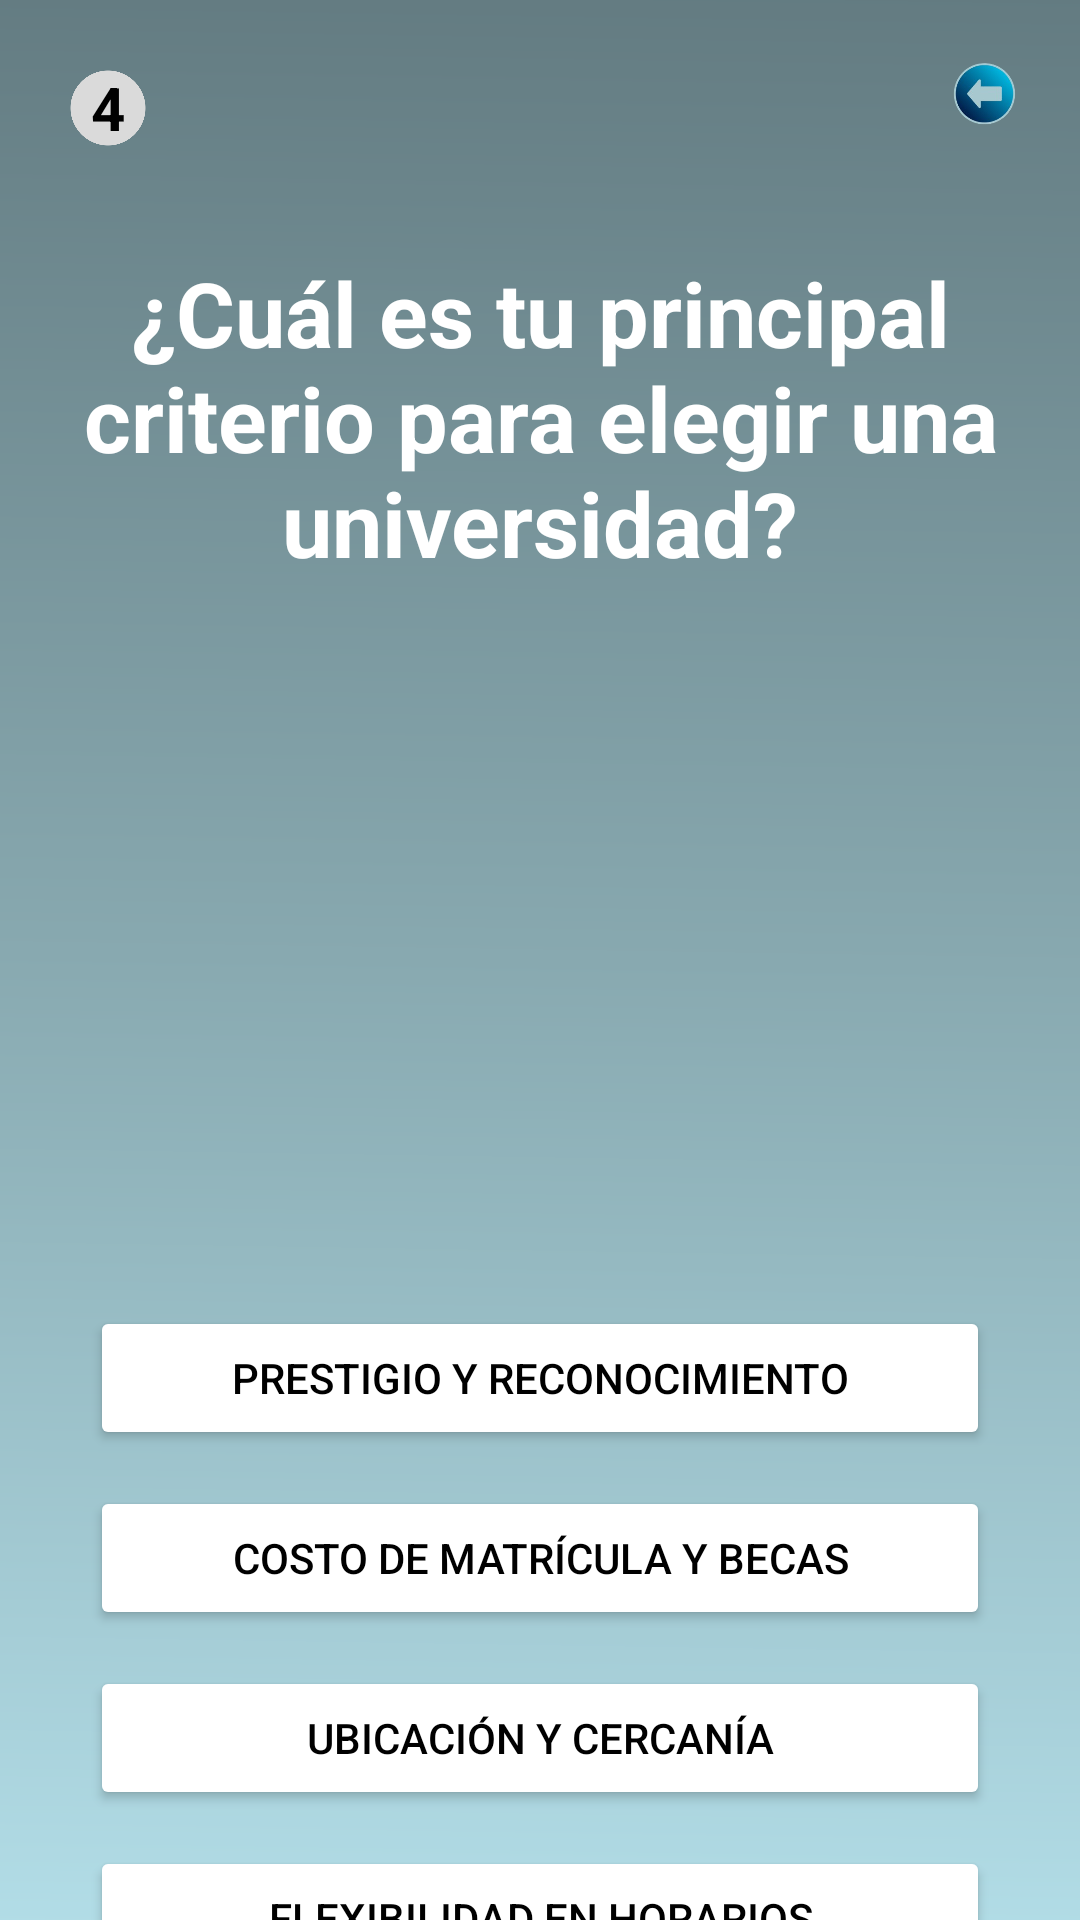

Icons on this 1080px x 1920px Android screen, each with its box as (x1, y1, x2, y2):
retroceso: (954, 63, 1015, 124)
